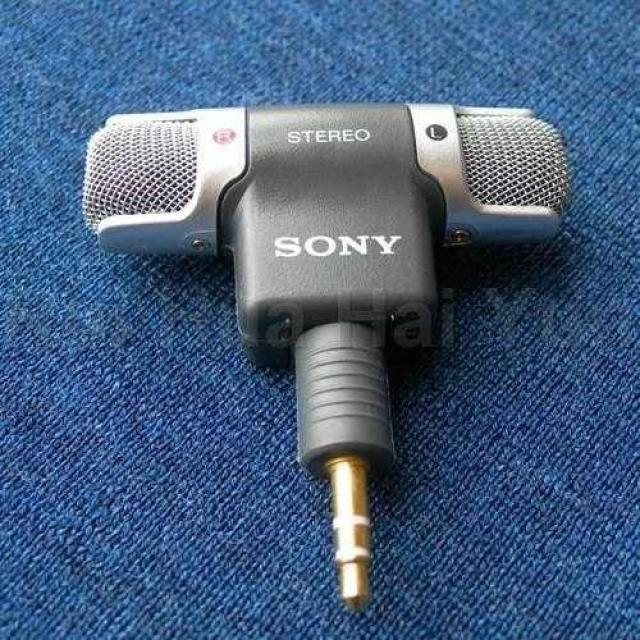microphone: (81, 100, 573, 356)
